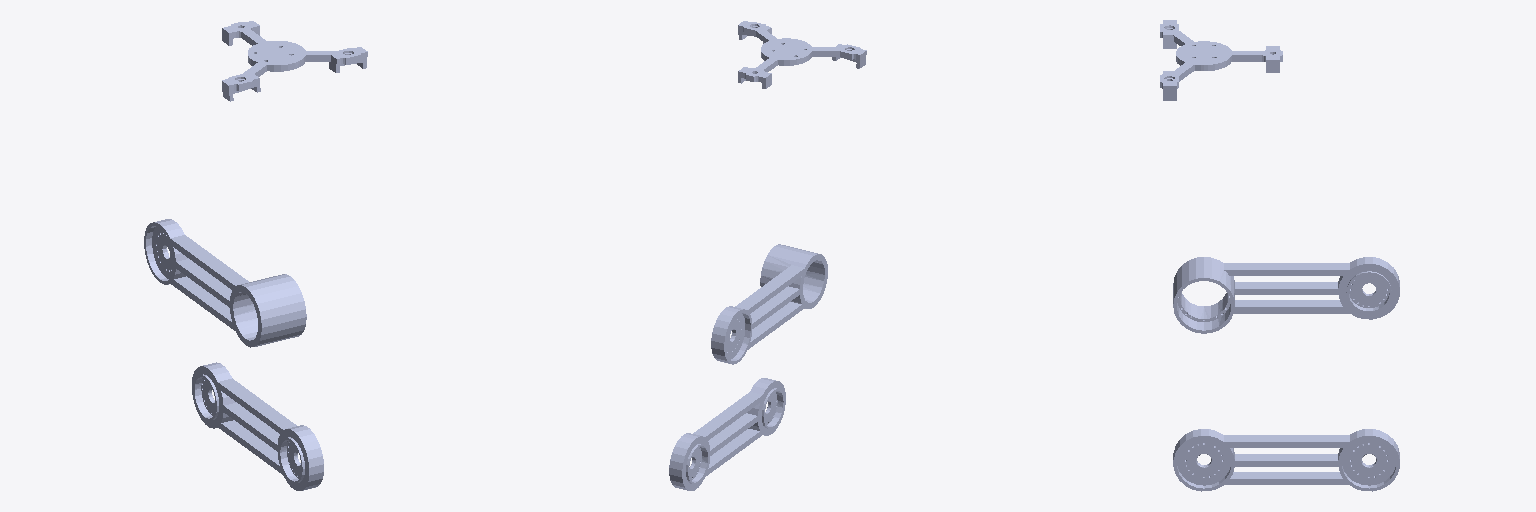
The robot description file, URDF, robot "bigmama0306":
<?xml version="1.0" encoding="utf-8" ?>
<!-- This URDF was automatically created by SolidWorks to URDF Exporter! Originally created by [author] ([email redacted]) 
     Commit Version: 1.6.0-1-g15f4949  Build Version: 1.6.7594.29634
     For more information, please see http://wiki.ros.org/sw_urdf_exporter -->
<robot name="bigmama0306">
<!--<link name="world"/>-->
    <link name="dummy" />
<!--<joint name="world_joint" type="fixed">
          <parent link="world"/>
          <child link="dummy"/>
    </joint>-->
    <link name="Link_0">
        
<inertial>
            <origin xyz="-0.0036197 -0.0088605 0.029488" rpy="0 0 0" />
            <mass value="0.80666" /><!--0.80666-->
            <inertia ixx="0.0014974" ixy="-1.2947E-05" ixz="1.4235E-05" iyy="0.0014446" iyz="-7.5473E-06" izz="0.0010286" />
        </inertial>

        <visual>
            <origin xyz="0 0 0" rpy="0 0 0" />
            <geometry>
                <mesh filename="package://bigmama0306/meshes/Link_0.STL" />
            </geometry>
            <material name="">
                <color rgba="0.79216 0.81961 0.93333 1" />
            </material>
        </visual>
        <collision>
            <origin xyz="0 0 0" rpy="0 0 0" />
            <geometry>
                <mesh filename="package://bigmama0306/meshes/Link_0.STL" />
            </geometry>
            <friction>
            <ode>
              <mu>10</mu>
              <mu2>10</mu2>
              <fdir1>1 0 0</fdir1>
              <slip1>0</slip1>
              <slip2>0</slip2>
            </ode>
            <torsional>
              <coefficient>1</coefficient>
              <patch_radius>0</patch_radius>
              <surface_radius>0</surface_radius>
              <use_patch_radius>1</use_patch_radius>
              <ode>
                <slip>0</slip>
              </ode>
            </torsional>
          </friction>
        </collision>
    </link>
    <joint name="dummy_joint" type="fixed">
        <parent link="dummy" />
        <child link="Link_0" />
    </joint>
    <link name="Link_1">
        
<inertial>
            <origin xyz="-5.5511E-16 0.12 0.014813" rpy="0 0 0" />
            <mass value="0.28238" /><!--0.28238-->
            <inertia ixx="0.0027445" ixy="4.2498E-20" ixz="3.991E-21" iyy="0.00019508" iyz="-4.8177E-20" izz="0.0029159" />
        </inertial>

        <visual>
            <origin xyz="0 0 0" rpy="0 0 0" />
            <geometry>
                <mesh filename="package://bigmama0306/meshes/Link_1.STL" />
            </geometry>
            <material name="">
                <color rgba="0.79216 0.81961 0.93333 1" />
            </material>
        </visual>
        <collision>
            <origin xyz="0 0 0" rpy="0 0 0" />
            <geometry>
                <mesh filename="package://bigmama0306/meshes/Link_1.STL" />
            </geometry>
        </collision>
    </link>
    <joint name="Joint_1" type="revolute">
        <origin xyz="0.022 0 0.155" rpy="1.5708 0 1.5708" />
        <parent link="Link_0" />
        <child link="Link_1" />
        <axis xyz="0 0 -1" />
        <limit lower="-3.14" upper="3.14" effort="100" velocity="0.25" />
    </joint>
    <link name="Link_2">
        
<inertial>
            <origin xyz="0 0.098184 -0.051898" rpy="0 0 0" />
            <mass value="0.34516" /><!--0.34516-->
            <inertia ixx="0.0036332" ixy="3.4151E-18" ixz="-4.4364E-19" iyy="0.00034405" iyz="0.00024115" izz="0.0037914" />
        </inertial>

        <visual>
            <origin xyz="0 0 0" rpy="0 0 0" />
            <geometry>
                <mesh filename="package://bigmama0306/meshes/Link_2.STL" />
            </geometry>
            <material name="">
                <color rgba="0.79216 0.81961 0.93333 1" />
            </material>
        </visual>
        <collision>
            <origin xyz="0 0 0" rpy="0 0 0" />
            <geometry>
                <mesh filename="package://bigmama0306/meshes/Link_2.STL" />
            </geometry>
        </collision>
    </link>
    <joint name="Joint_2" type="revolute">
        <origin xyz="0 0.24 0" rpy="0 0 0" />
        <parent link="Link_1" />
        <child link="Link_2" />
        <axis xyz="0 0 -1" />
        <limit lower="-3.14" upper="3.14" effort="100" velocity="0.25" />
    </joint>
    <link name="Link_3">
        
<inertial>
            <origin xyz="0.0088614 0.12552 0.025619" rpy="0 0 0" />
            <mass value="0.80659" /><!--0.80659-->
            
            <inertia ixx="0.0014442" ixy="-7.5611E-06" ixz="-1.2945E-05" iyy="0.0010285" iyz="1.4228E-05" izz="0.001497"/>
        </inertial>
        <visual>
            <origin xyz="0 0 0" rpy="0 0 0" />
            <geometry>
                <mesh filename="package://bigmama0306/meshes/Link_3.STL" />
            </geometry>
            <material name="">
                <color rgba="0.79216 0.81961 0.93333 1" />
            </material>
        </visual>
        <collision>
            <origin xyz="0 0 0" rpy="0 0 0" />
            <geometry>
                <mesh filename="package://bigmama0306/meshes/Link_3.STL" />
            </geometry>
            <friction>
            <ode>
              <mu>100</mu>
              <mu2>100</mu2>
              <fdir1>0 1 0</fdir1>
              <slip1>0</slip1>
              <slip2>0</slip2>
            </ode>
            <torsional>
              <coefficient>1</coefficient>
              <patch_radius>0</patch_radius>
              <surface_radius>0</surface_radius>
              <use_patch_radius>1</use_patch_radius>
              <ode>
                <slip>0</slip>
              </ode>
            </torsional>
          </friction>
        </collision>
    </link>
    <joint name="Joint_3" type="revolute">
        <origin xyz="0 0.24 -0.0442" rpy="0 0 0" />
        <parent link="Link_2" />
        <child link="Link_3" />
        <axis xyz="0 0 1" />
        <limit lower="-3.14" upper="3.14" effort="100" velocity="0.25" />
    </joint>
    <link name="Link_4">
        
<inertial>
            <origin xyz="5.6621E-15 4.8191E-15 0.00025" rpy="0 0 0" />
            <mass value="3.927E-05" />
            <inertia ixx="2.4626E-10" ixy="1.9285E-38" ixz="3.6273E-24" iyy="2.4626E-10" iyz="1.3147E-24" izz="4.9087E-10" />
        </inertial>

        <visual>
            <origin xyz="0 0 0" rpy="0 0 0" />
            <geometry>
                <mesh filename="package://bigmama0306/meshes/Link_4.STL" />
            </geometry>
            <material name="">
                <color rgba="0.79216 0.81961 0.93333 1" />
            </material>
        </visual>
        <collision>
            <origin xyz="0 0 0" rpy="0 0 0" />
            <geometry>
                <mesh filename="package://bigmama0306/meshes/Link_4.STL" />
            </geometry>
        </collision>
    </link>
    <joint name="Joint_4" type="revolute">
        <origin xyz="0 0.155 0.022" rpy="-1.5708 0 0" />
        <parent link="Link_3" />
        <child link="Link_4" />
        <axis xyz="0 0 1" />
        <limit lower="0" upper="0" effort="0" velocity="0" />
    </joint>
    
<transmission name="trans_Joint_1">
        <type>transmission_interface/SimpleTransmission</type>
        <joint name="Joint_1">
            <hardwareInterface>hardware_interface/PositionJointInterface</hardwareInterface>
        </joint>
        <actuator name="Joint_1_motor">
            <hardwareInterface>hardware_interface/PositionJointInterface</hardwareInterface>
            <mechanicalReduction>1</mechanicalReduction>
        </actuator>
    </transmission>
    <transmission name="trans_Joint_2">
        <type>transmission_interface/SimpleTransmission</type>
        <joint name="Joint_2">
            <hardwareInterface>hardware_interface/PositionJointInterface</hardwareInterface>
        </joint>
        <actuator name="Joint_2_motor">
            <hardwareInterface>hardware_interface/PositionJointInterface</hardwareInterface>
            <mechanicalReduction>1</mechanicalReduction>
        </actuator>
    </transmission>
    <transmission name="trans_Joint_3">
        <type>transmission_interface/SimpleTransmission</type>
        <joint name="Joint_3">
            <hardwareInterface>hardware_interface/PositionJointInterface</hardwareInterface>
        </joint>
        <actuator name="Joint_3_motor">
            <hardwareInterface>hardware_interface/PositionJointInterface</hardwareInterface>
            <mechanicalReduction>1</mechanicalReduction>
        </actuator>
    </transmission>
    <transmission name="trans_Joint_4">
        <type>transmission_interface/SimpleTransmission</type>
        <joint name="Joint_4">
            <hardwareInterface>hardware_interface/PositionJointInterface</hardwareInterface>
        </joint>
        <actuator name="Joint_4_motor">
            <hardwareInterface>hardware_interface/PositionJointInterface</hardwareInterface>
            <mechanicalReduction>1</mechanicalReduction>
        </actuator>
    </transmission>
    <gazebo reference="Link_3">
        <material>Gazebo/Yellow</material>
        <kp>1e10</kp> 
        <kd>100.0</kd>  
        <mu1>100000</mu1>
        <mu2>100000</mu2>
        <fdir1>1 0 0</fdir1>
        <maxVel>0.0</maxVel>
        <minDepth>0.0</minDepth>
    </gazebo>
    <gazebo reference="Link_0">
        <material>Gazebo/Green</material>
        <turnGravityOff>false</turnGravityOff>
        <kp>100000.0</kp> 
        <kd>500.0</kd>  
        <mu1>0.9</mu1>
        <mu2>0.9</mu2>
        <fdir1>1 0 0</fdir1>
        <maxVel>0.0</maxVel>
        <minDepth>0.0</minDepth>
    </gazebo>
    <gazebo reference="Link_1">
        <material>Gazebo/LightBlueLaser</material>
        <turnGravityOff>false</turnGravityOff>
    </gazebo>
    <gazebo reference="Link_2">
        <material>Gazebo/LightBlueLaser</material>
        <turnGravityOff>false</turnGravityOff>
    </gazebo>
    <gazebo>
        <plugin name="gazebo_ros_control" filename="libgazebo_ros_control.so">
            <robotNamespace>/</robotNamespace>
        </plugin>
    </gazebo>
</robot>

--- What the picture shows (computed from the rendered views, not written in the file) ---
Views: 3 orthographic renders of the robot side by side, from view 1: azimuth 30°, elevation 25°; view 2: azimuth 150°, elevation 25°; view 3: azimuth 270°, elevation 25°.
Model bigmama0306 with 6 links and 5 joints (4 revolute, 1 fixed), rooted at dummy, posed every joint at zero.
Visible links, largest first — view 1: Link_2, Link_1, Link_4; view 2: Link_2, Link_1, Link_4; view 3: Link_2, Link_1, Link_4.
Link boxes in pixels (x1,y1,x2,y2): Link_2: (144, 219, 306, 347); Link_1: (192, 362, 323, 490); Link_4: (222, 21, 367, 101); Link_2: (711, 244, 827, 364); Link_1: (669, 378, 785, 490); Link_4: (738, 21, 866, 88); Link_2: (1173, 257, 1399, 333); Link_1: (1173, 429, 1399, 491); Link_4: (1160, 20, 1282, 100).
Size in the robot's own frame: 0.2249 by 0.3486 by 0.6797 metres.
Meshes: 5 distinct files referenced, 3 mesh visuals loaded (3 binary STL); not drawn: 2 (reference not matched to a file when rendering).
